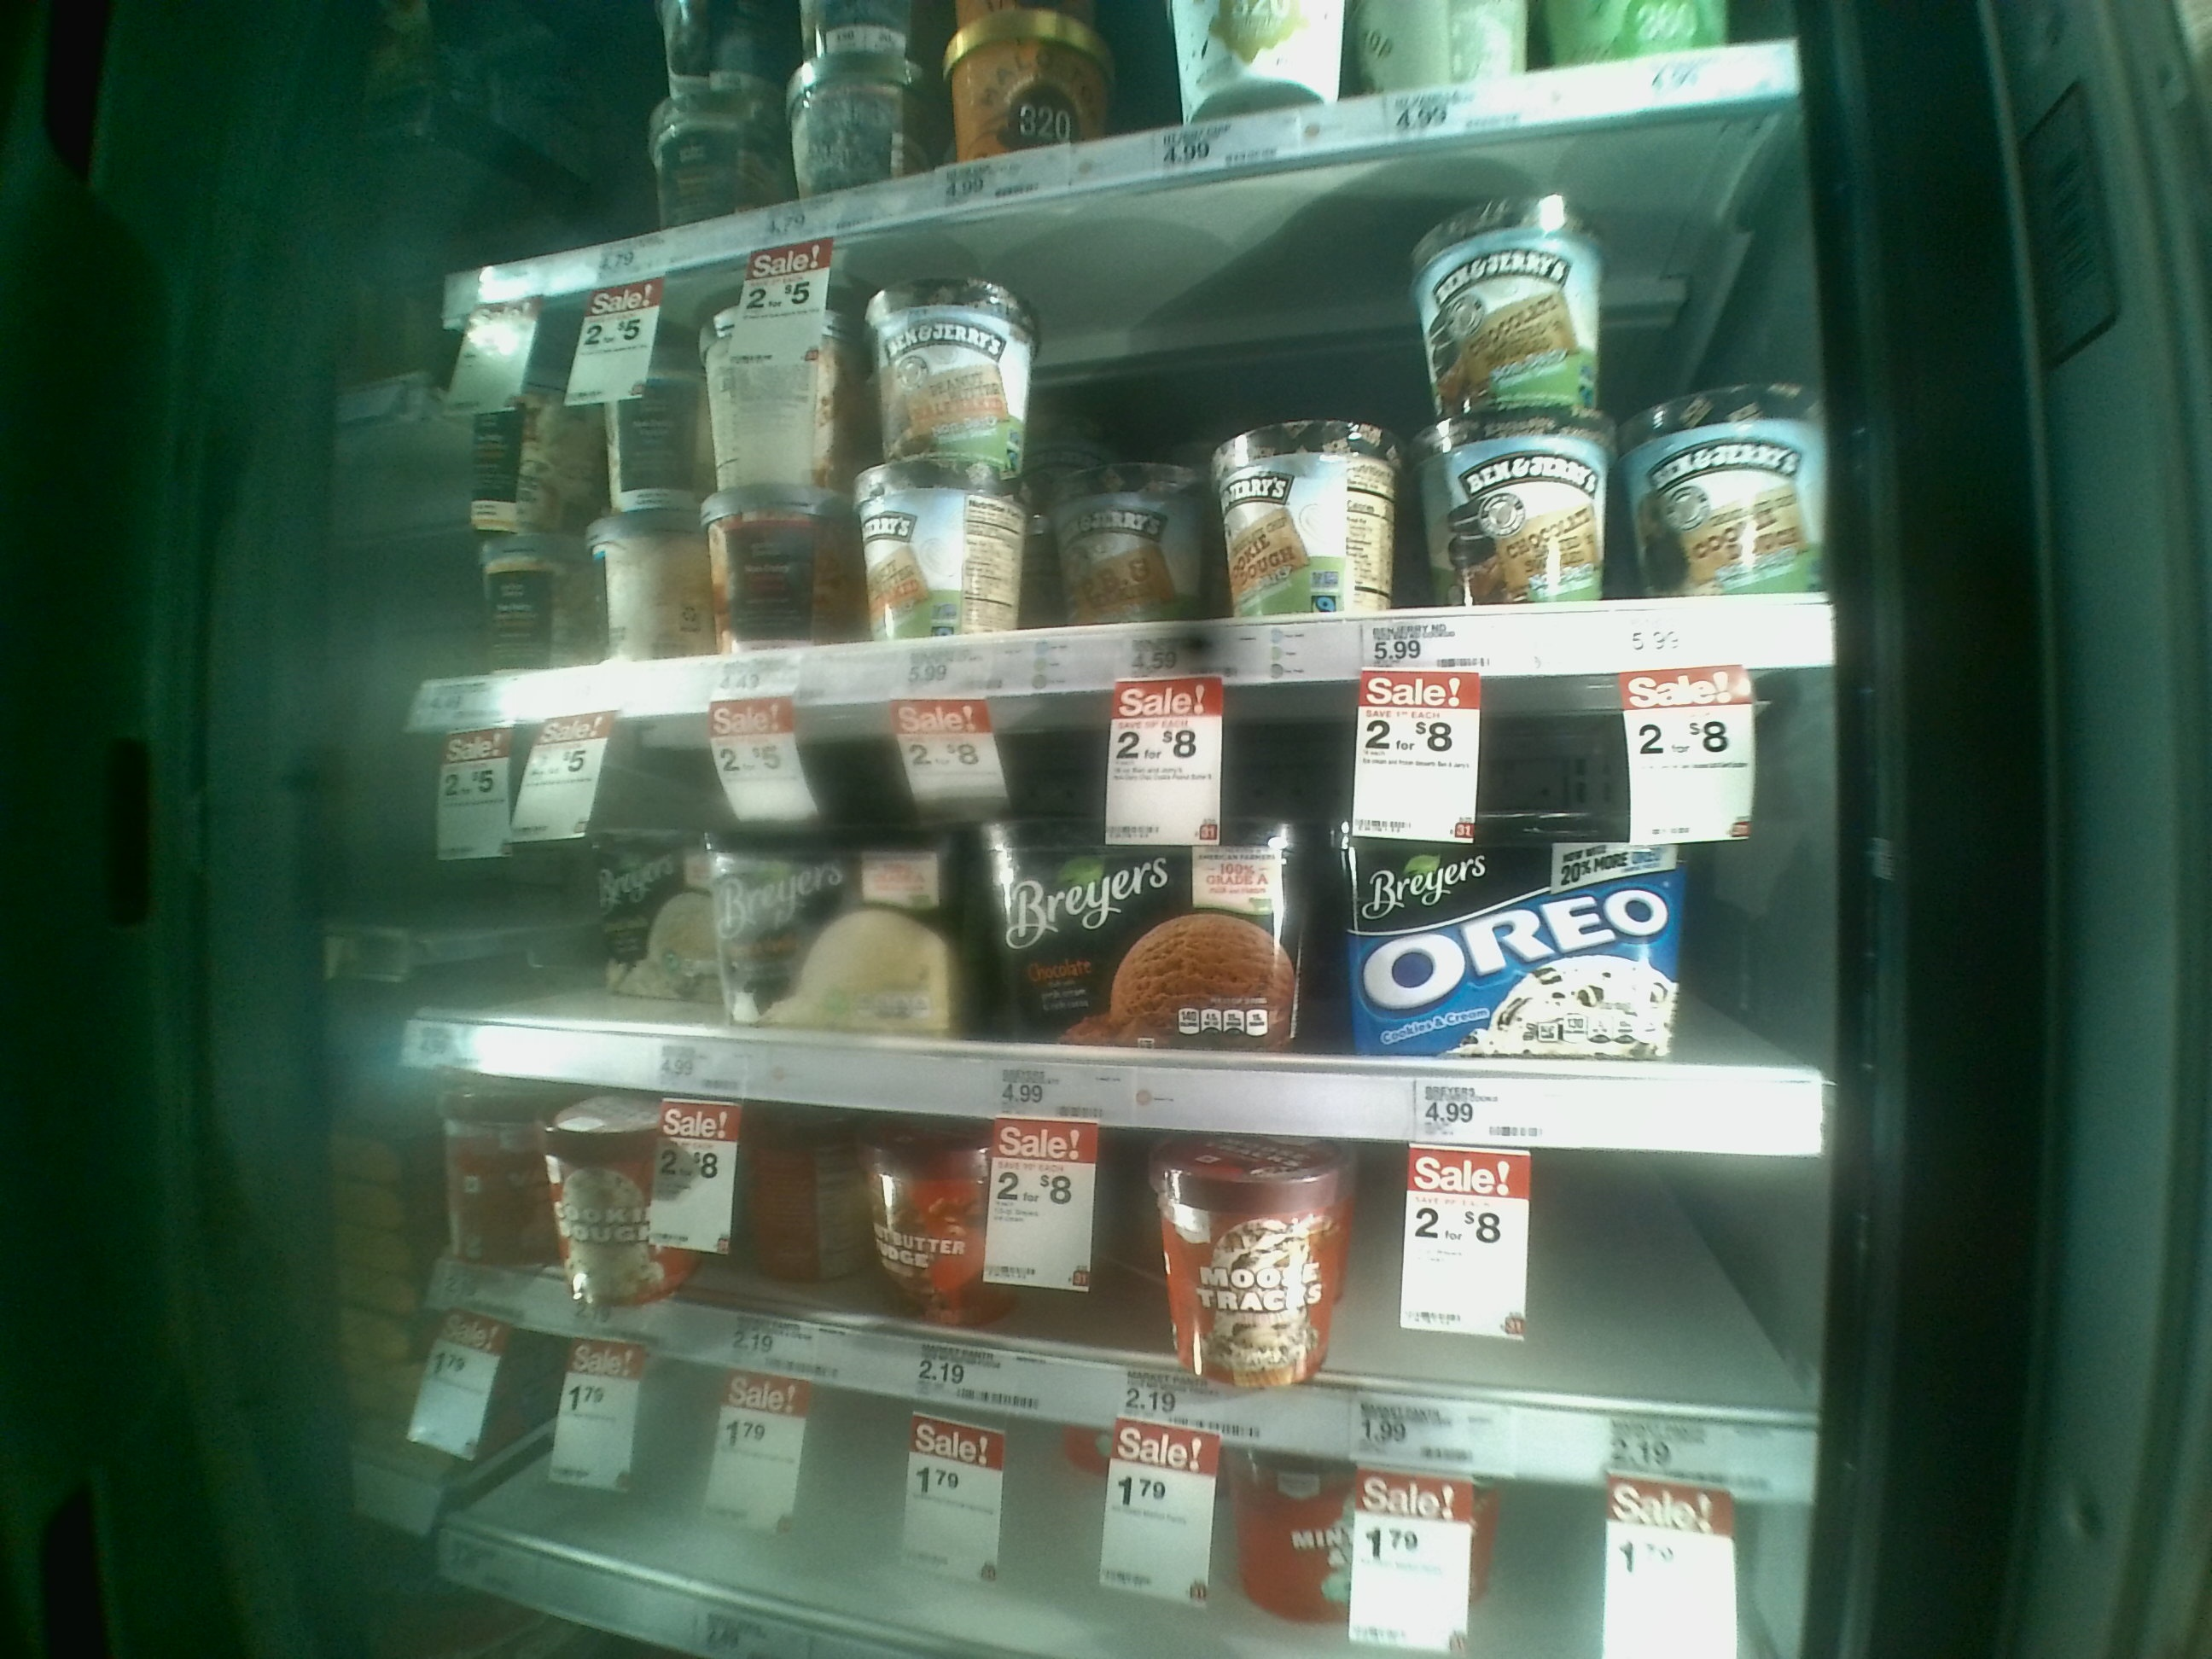shelf: (421, 89, 1832, 737), (428, 673, 1829, 1159)
